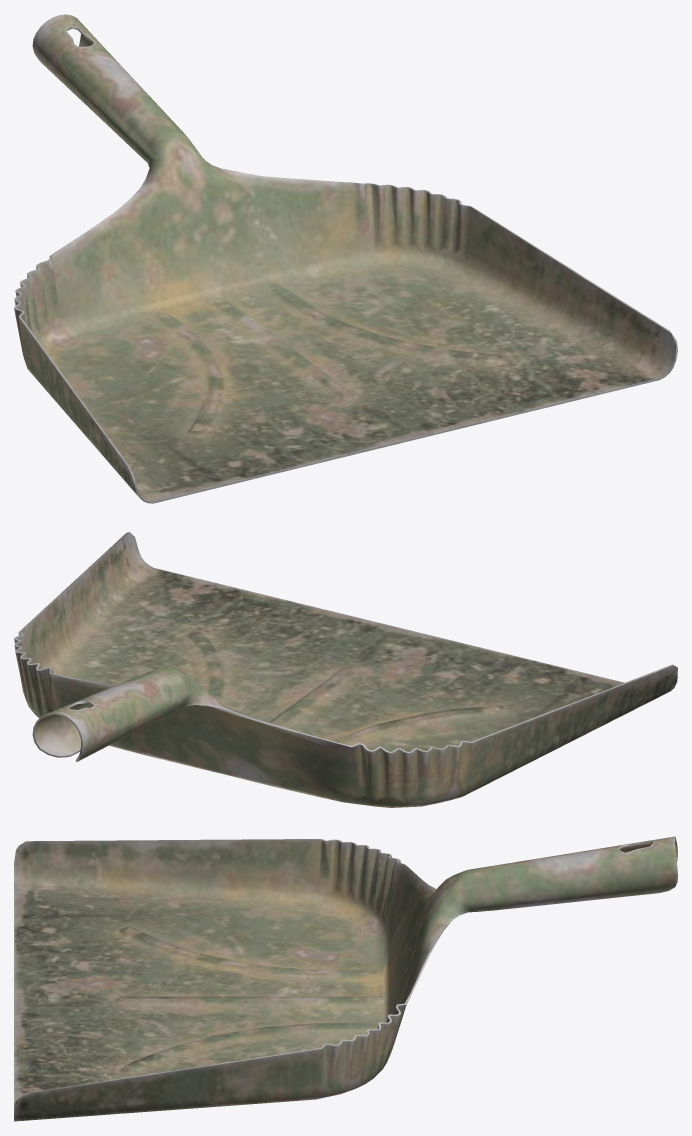
Rendered from dustpan.glb.
3 views of the same model, one above another, from view 1: azimuth 30°, elevation 25°; view 2: azimuth 150°, elevation 25°; view 3: azimuth 270°, elevation 25° (orthographic). The views are drawn at different scales.
Parts seen in each view (by area): view 1: dustpan; view 2: dustpan; view 3: dustpan.
Boxes of the visible parts, x1,y1,x2,y2 form: dustpan: (14, 14, 677, 503); dustpan: (14, 532, 677, 807); dustpan: (14, 836, 677, 1121).
Bounding box in the file's own units: 0.332 × 0.1003 × 0.3679.
Materials: 1 (1 with a texture image).
